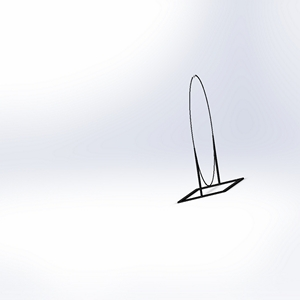circle: (177, 74, 244, 204)
